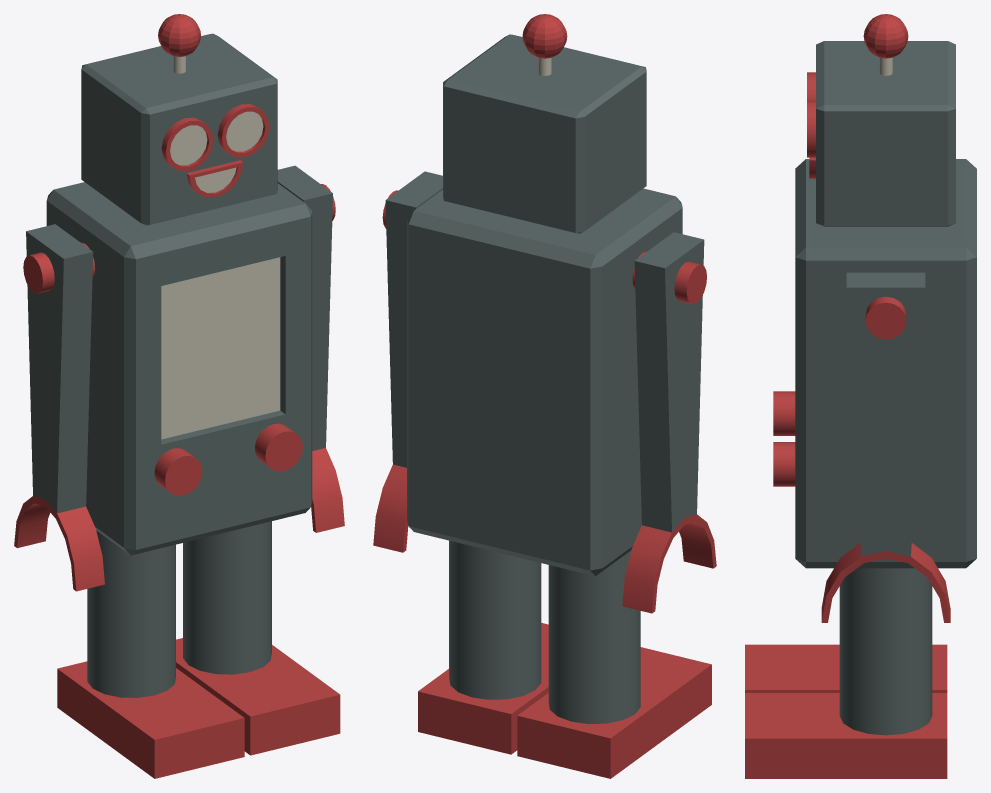
The model's file is Robot_Toy.fbx.
3 views of the same model, side by side, from view 1: azimuth 30°, elevation 25°; view 2: azimuth 150°, elevation 25°; view 3: azimuth 270°, elevation 25° (orthographic). The views are drawn at different scales.
Visible parts, largest first — view 1: pCube9; view 2: pCube9; view 3: pCube9.
Part boxes in pixels (x1,y1,x2,y2): pCube9: (14,14,344,778); pCube9: (373,14,716,778); pCube9: (745,14,976,778).
Bounding box in the file's own units: 0.9905 × 2.23 × 0.6549.
